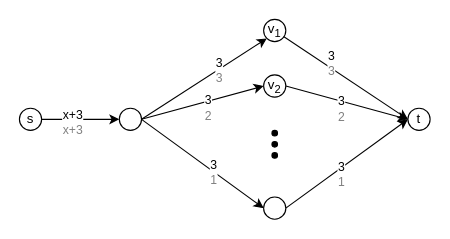
The diagram is 450 pixels wide and 239 high, and some of its shapes have lost their labels. Each missing label, with the box of its shape:
v 0: (118, 107, 142, 130)
v x: (263, 196, 286, 219)
